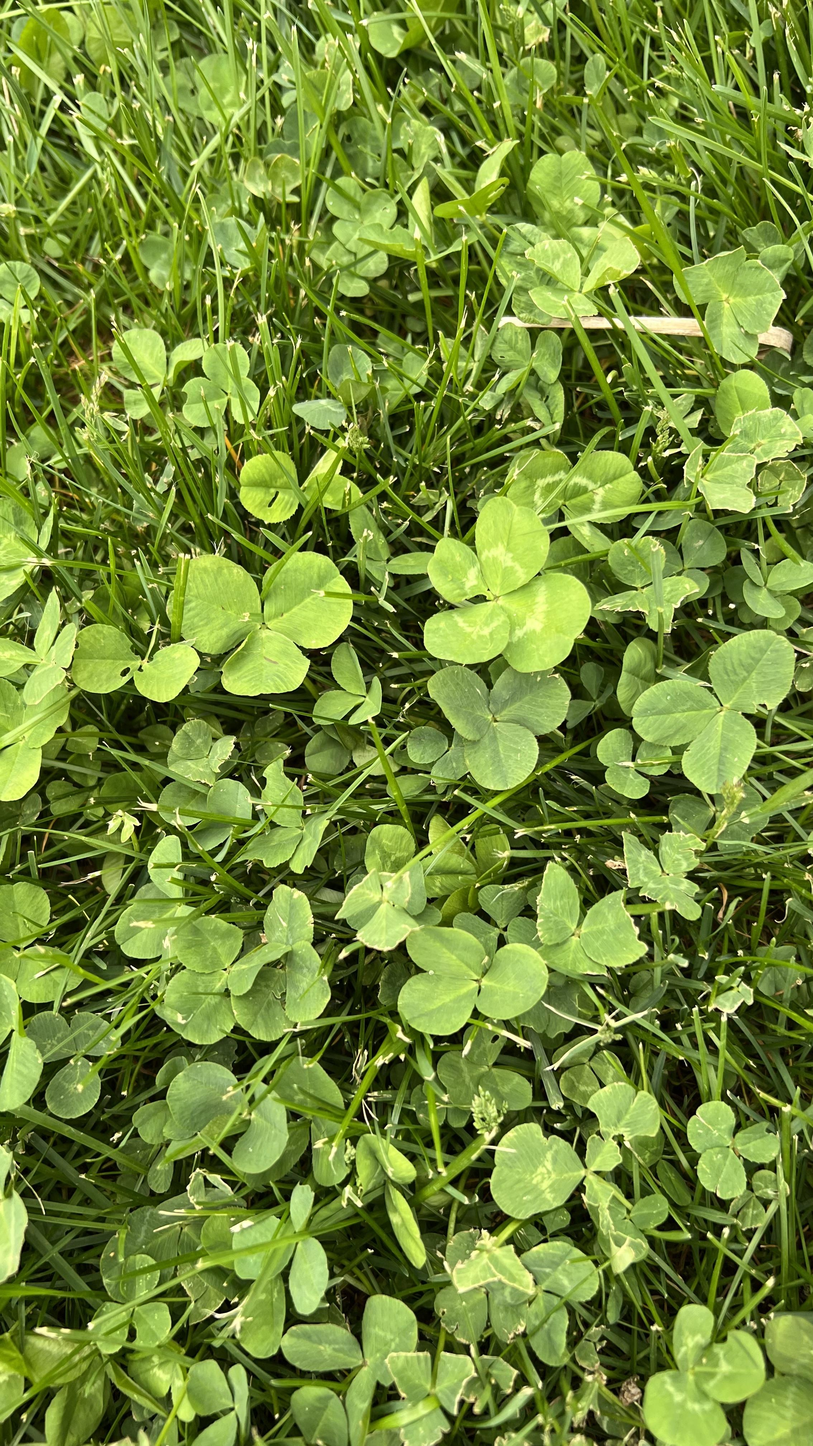4-Leaf-Clovers: (276, 400, 377, 697)
